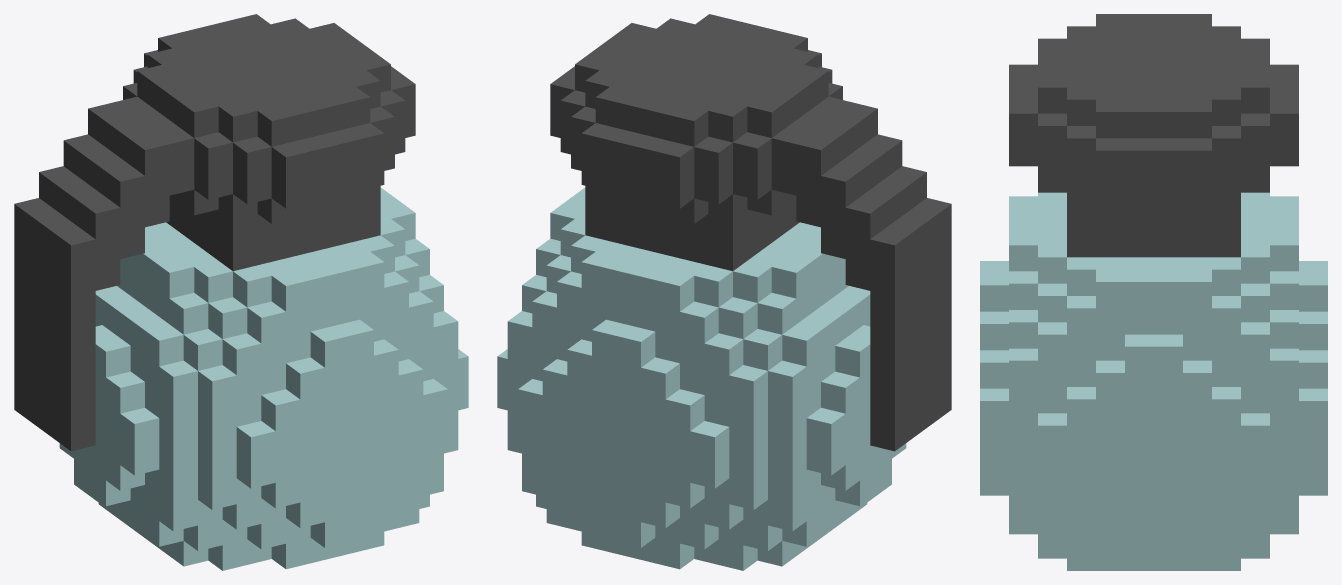
Rendered from Grenade.fbx.
3 renders of one model, left to right at view 1: azimuth 30°, elevation 25°; view 2: azimuth 150°, elevation 25°; view 3: azimuth 270°, elevation 25°, orthographic. The views are drawn at different scales.
Visible parts, largest first — view 1: grenade; view 2: grenade; view 3: grenade.
Boxes of the visible parts, x1,y1,x2,y2 form: grenade: (14, 14, 468, 570); grenade: (497, 14, 951, 570); grenade: (980, 14, 1327, 570).
Bounding box in the file's own units: 24.43 × 27.69 × 19.54.
